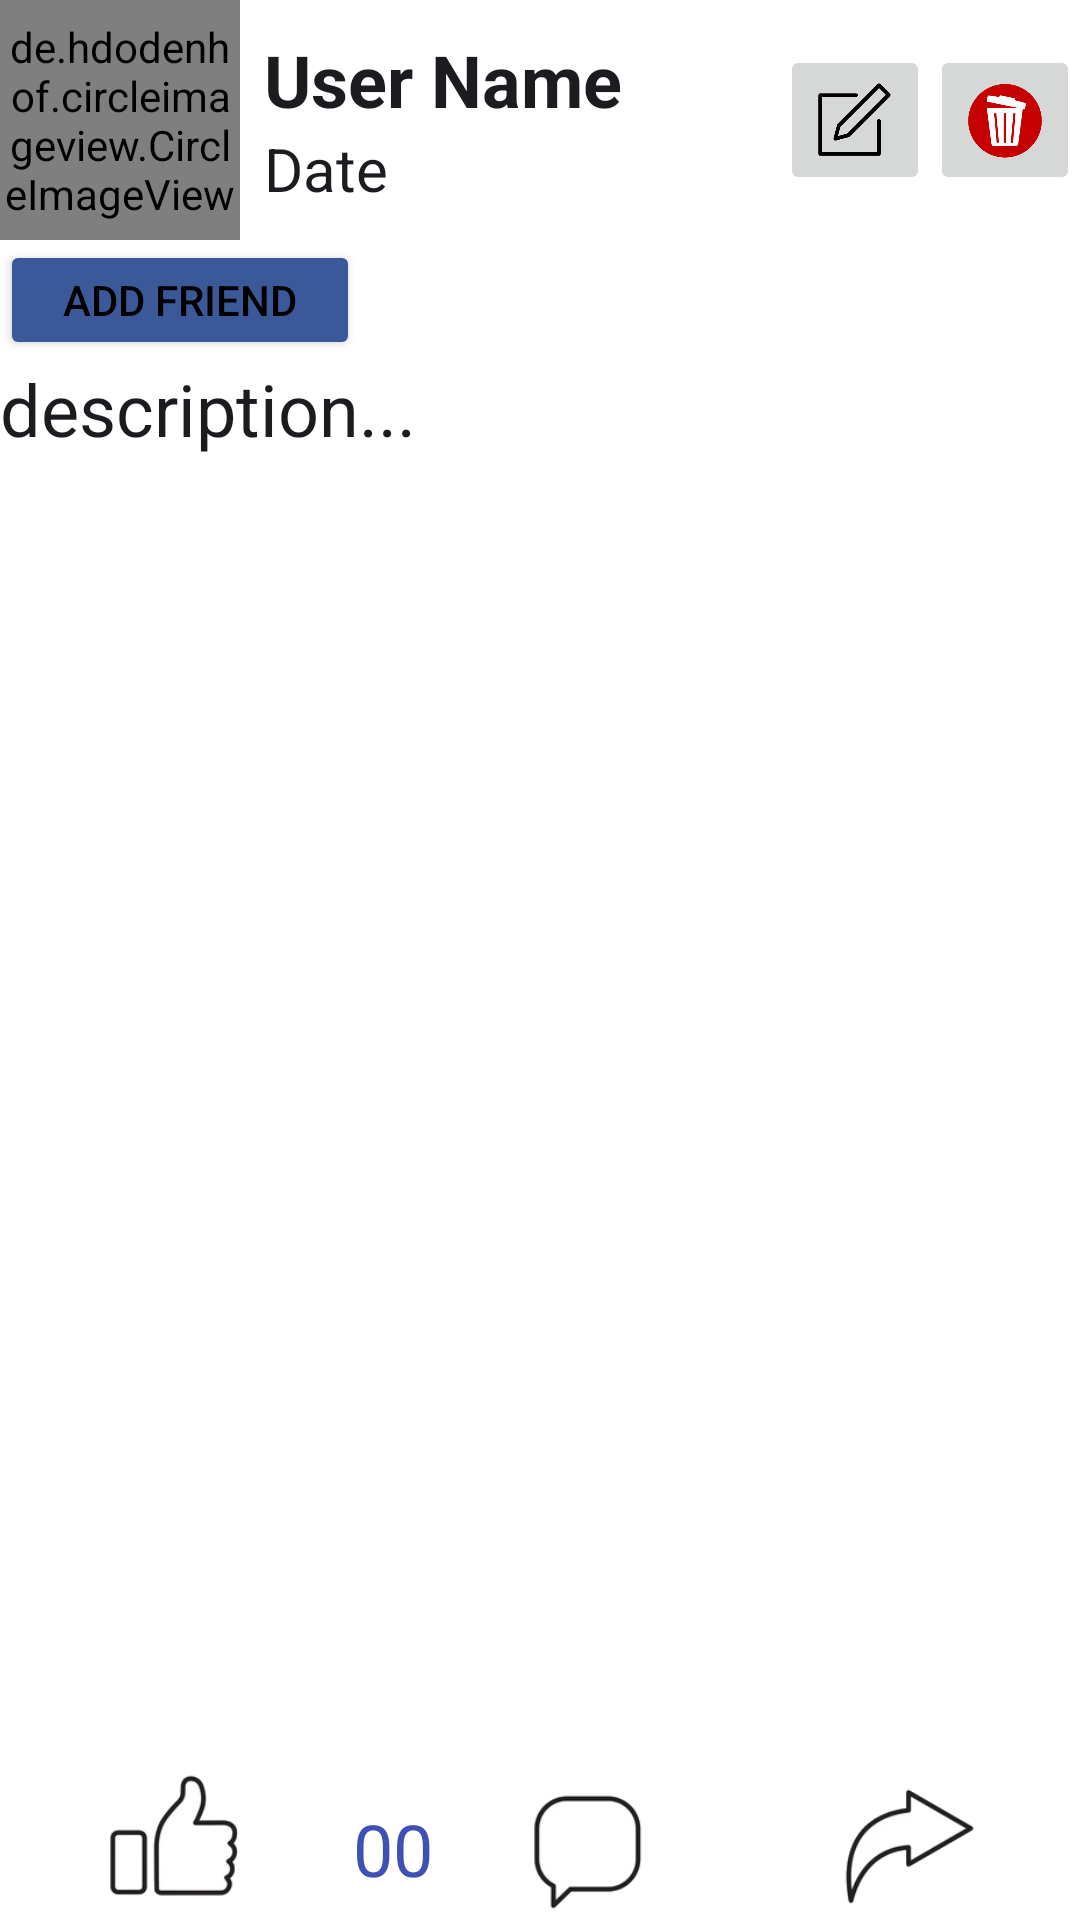

Screen size 1080*1920. Icon name, then its center in pixels as [x,y]:
comment: [587,1852]
delete: [1005,120]
edit: [855,120]
like: [174,1835]
share: [909,1846]
